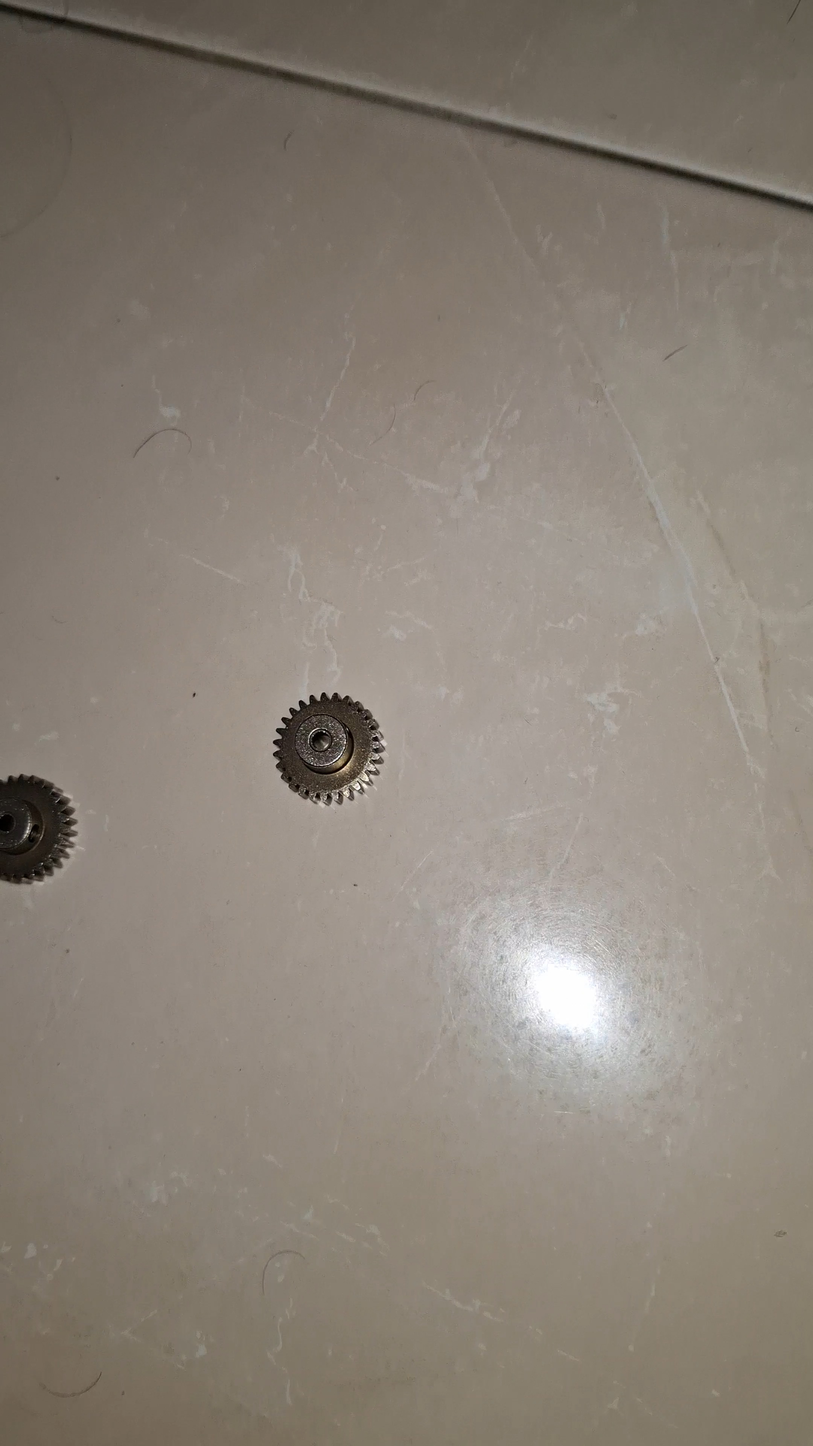spur gear: (275, 693, 384, 804), (0, 776, 75, 882)
